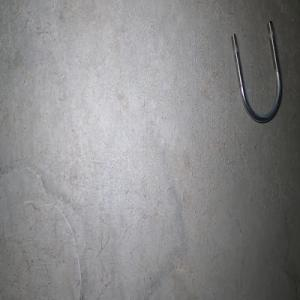ClampPart: (230, 19, 283, 124)
